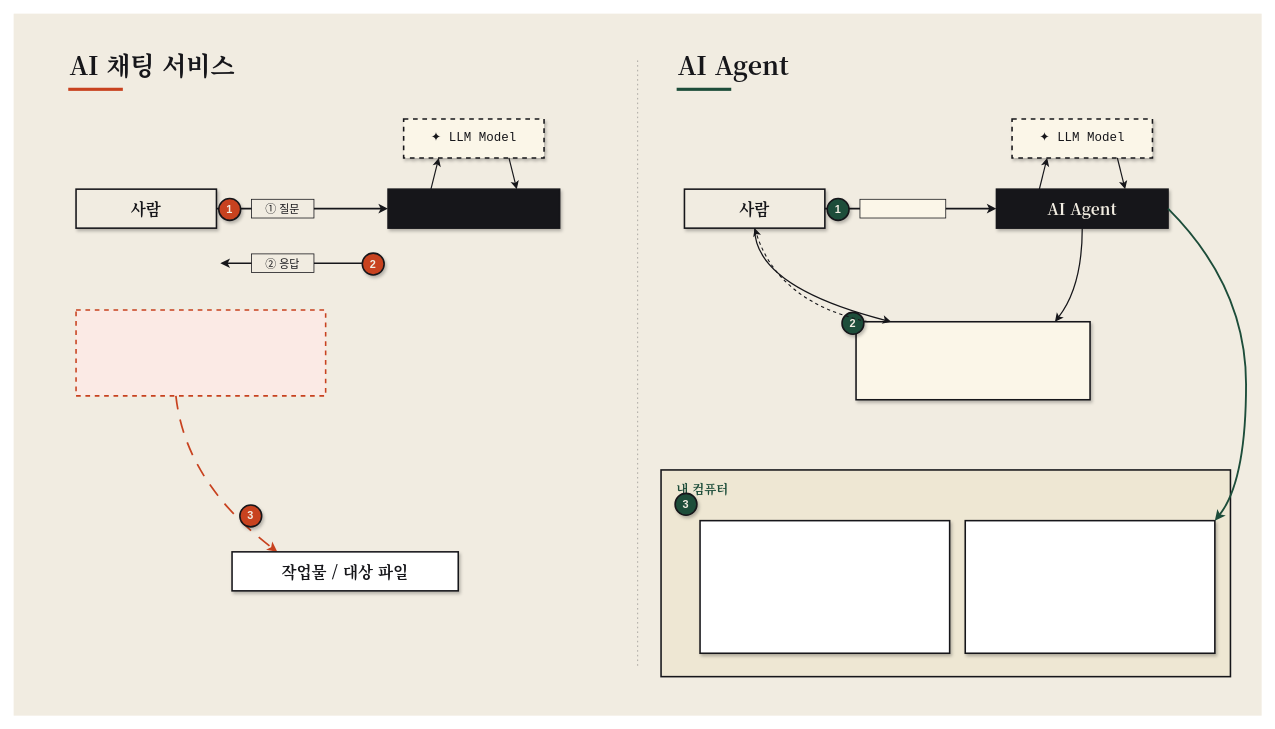
The diagram is 1275 pixels wide and 729 high, and some of its shapes have lost their labels. The shapes that lost their labels are listed below. From the top down, each one's centre as x and y in pixels, then its label:
At (474,209): "AI 채팅".
At (902,208): "① 작업 지시".
At (200,352): "사람이 응답을 복사 · 붙여넣어 작업물에 반영".
At (973,361): "작업 지시서 AI가 초안 작성 → 사람이 보완 명령 또는 사람이 직접 수정".
At (825,587): "파일 생성 / 수정".
At (1090,587): "외부 사이트 연동 호출".
